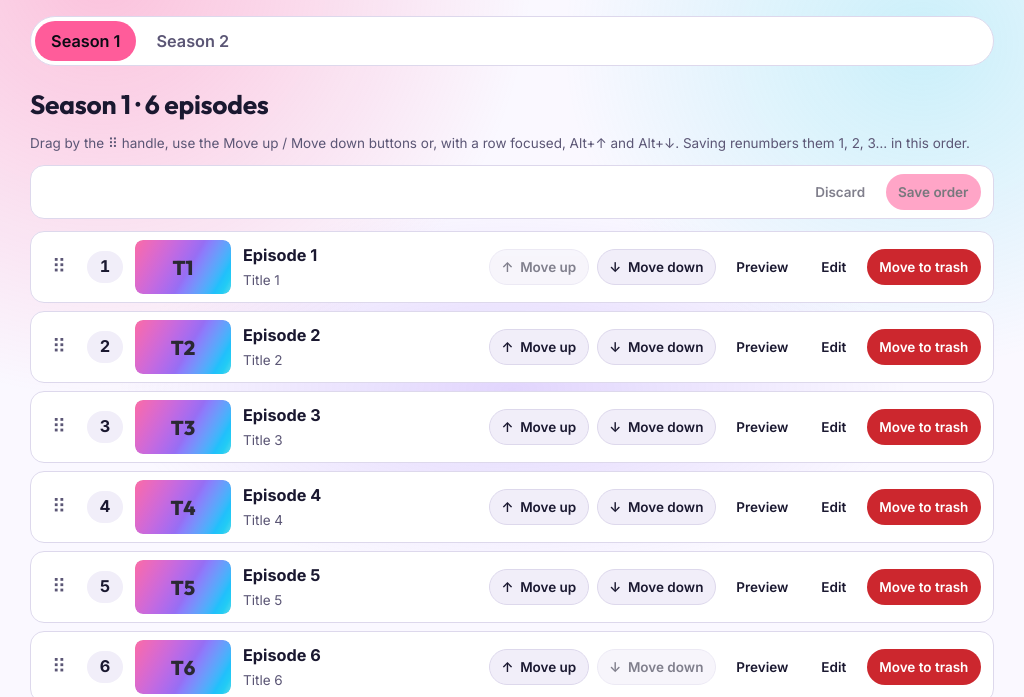
admin series board — keyboard reordering › Save order sends exactly the shown video ids, then shows the new numbers
(page scrolled)
Click the button "↑ Move up" in the row of "Episode 6" at [539, 667], box [489,649,589,685]
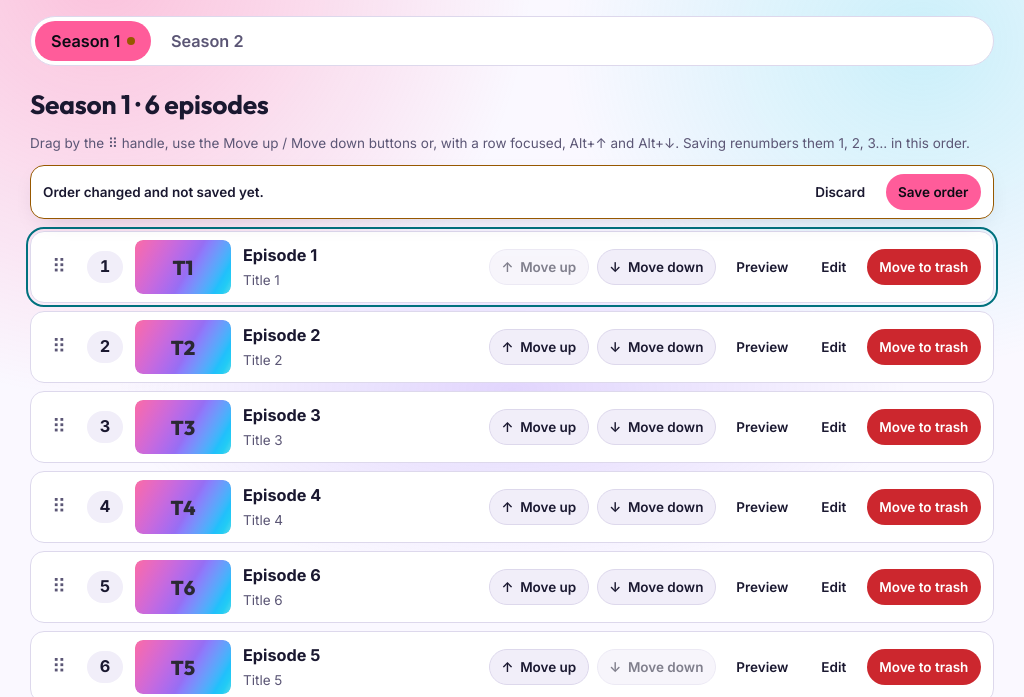
Type keys "{Alt>}{ArrowDown}{/Alt}"
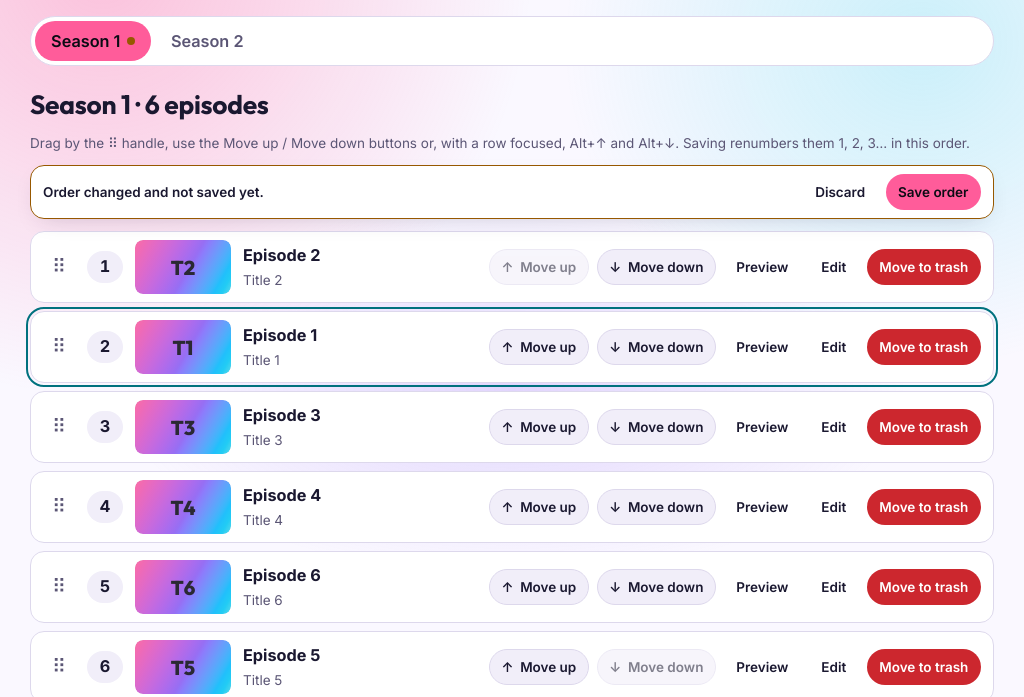
Check: the button "Save order" does not have attribute aria-disabled
Click the button "Save order" at [933, 192], box [886,174,981,210]
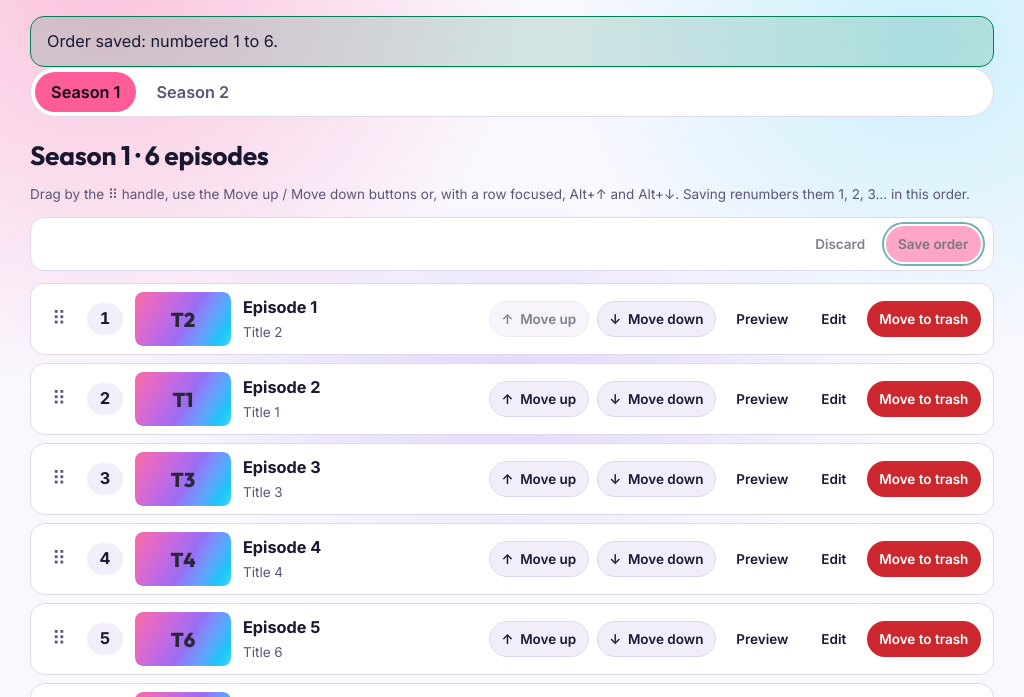
Check: the text "Order saved: numbered 1 to 6." is shown, box [30,16,994,67]
